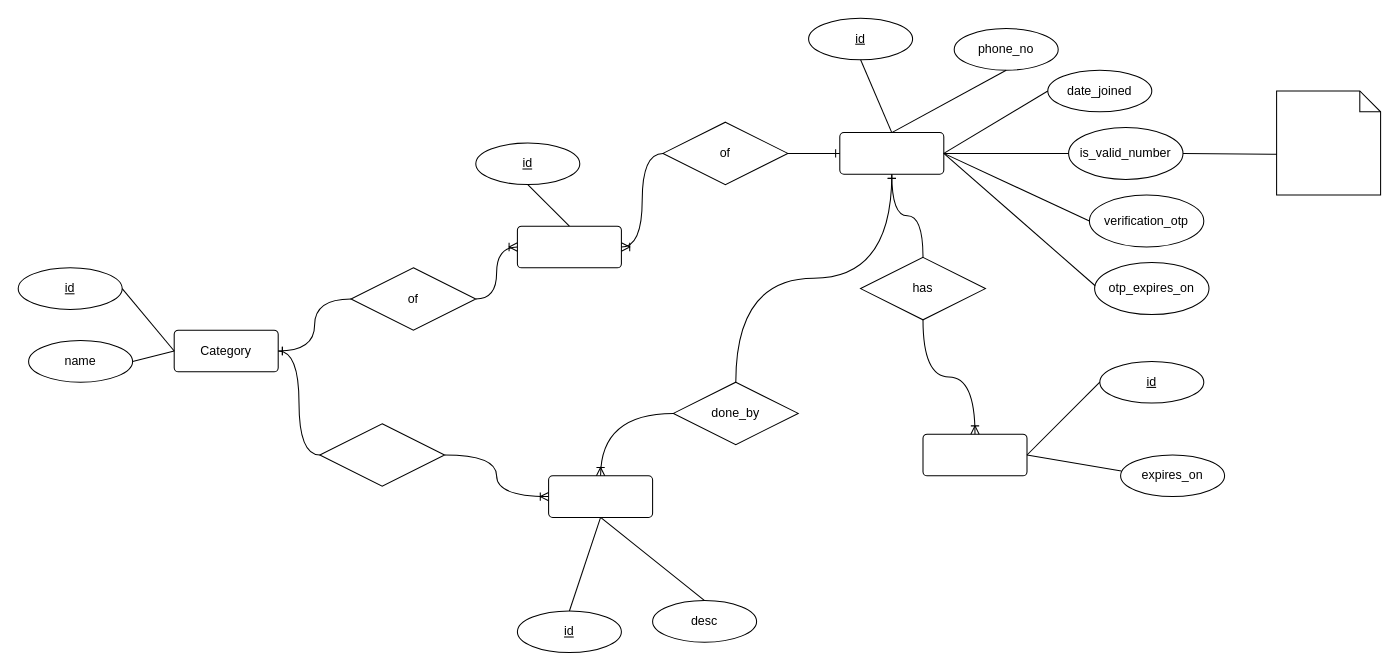
Image size: 1399x671. Some labels were removed from this diagram. The shapes that lost their labels are listed below. From the top down, each one's centre as x and y in pixels, then its label:
At pixel 891 153: "Users".
At pixel 1328 142: "Will get verified after user varifed using OTP Verification".
At pixel 568 246: "Subscription".
At pixel 382 454: "belongs_to".
At pixel 974 454: "Session".
At pixel 600 496: "chat".
